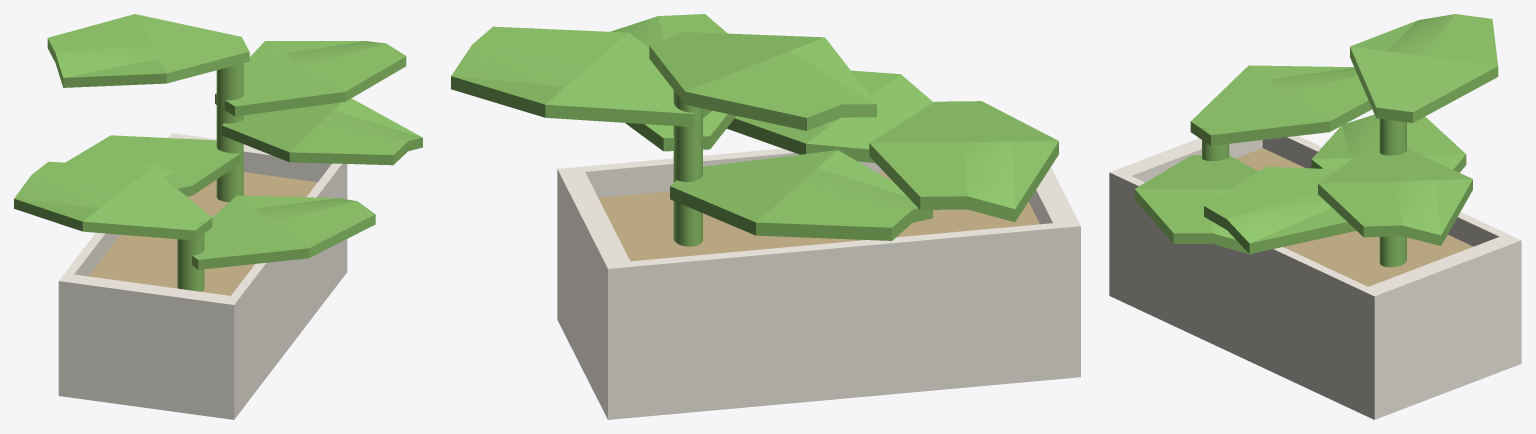
The model's file is Plant_Box_1.fbx.
3 views of the same model, side by side, from view 1: azimuth 30°, elevation 25°; view 2: azimuth 150°, elevation 25°; view 3: azimuth 270°, elevation 25° (orthographic). The views are drawn at different scales.
Visible parts, largest first — view 1: Plantbox_Type_1; view 2: Plantbox_Type_1; view 3: Plantbox_Type_1.
Part boxes in pixels (bbox=[...]): Plantbox_Type_1: bbox=[14, 14, 422, 419]; Plantbox_Type_1: bbox=[451, 14, 1080, 419]; Plantbox_Type_1: bbox=[1109, 14, 1521, 419].
Size of the model in its own units: 39.97 by 24.37 by 33.39.
